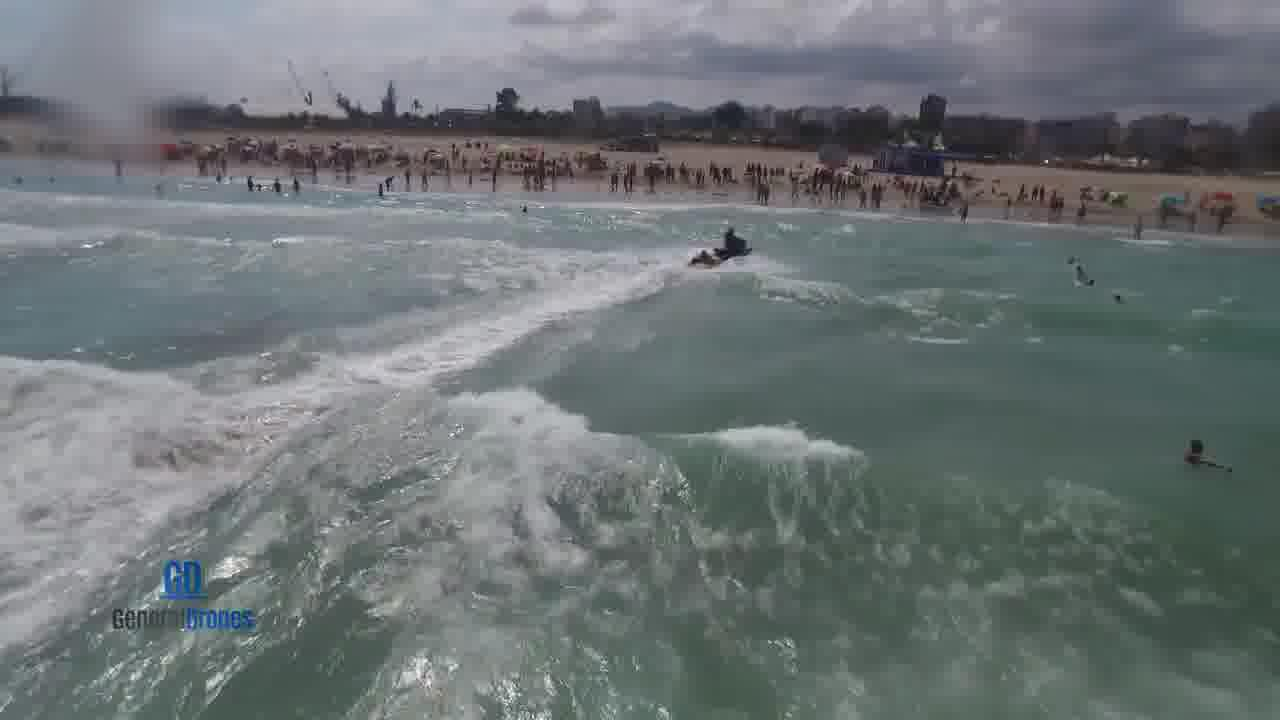human: (1168, 425, 1241, 479)
